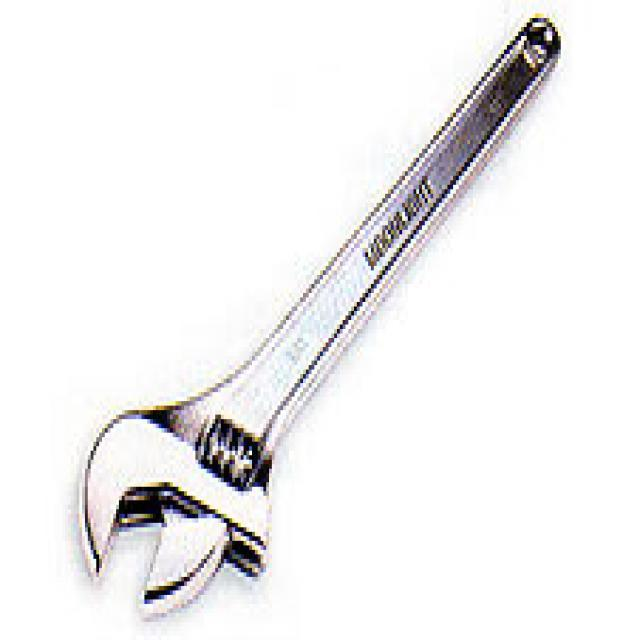wrench: (70, 2, 566, 624)
